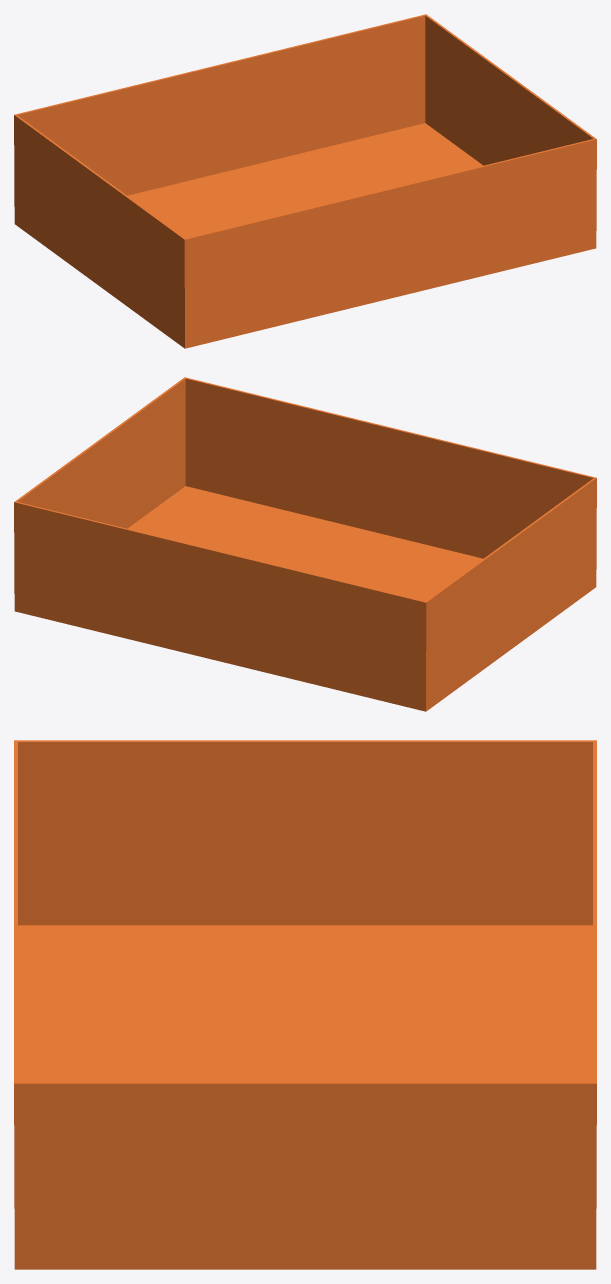
File: small box.obj
3 renders of one model, top to bottom at view 1: azimuth 30°, elevation 25°; view 2: azimuth 150°, elevation 25°; view 3: azimuth 270°, elevation 25°, orthographic. The views are drawn at different scales.
Parts seen in each view (by area): view 1: Plane.016; view 2: Plane.016; view 3: Plane.016.
Part boxes in pixels (x1=…): Plane.016: x1=14, y1=14, x2=596, y2=348; Plane.016: x1=14, y1=377, x2=596, y2=711; Plane.016: x1=14, y1=740, x2=596, y2=1269.
Bounding box in the file's own units: 0.2445 × 0.0619 × 0.1754.
